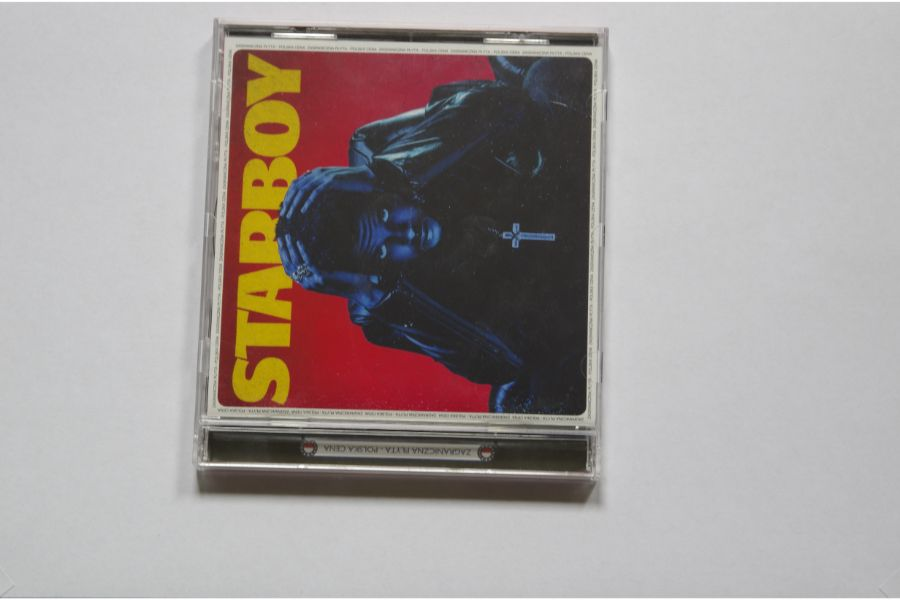album: (192, 18, 613, 494)
